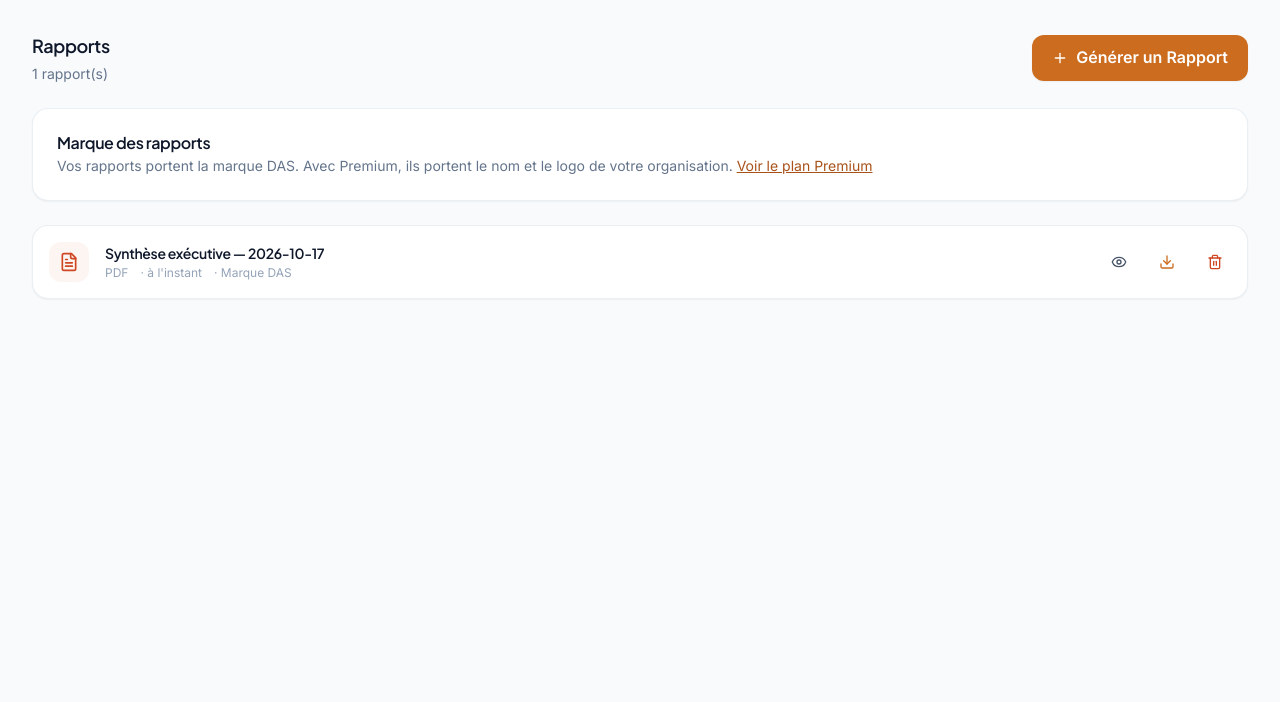
Test: ReportsTab › erreur serveur : message clair, rien n'est ajouté à la liste
Expected: the heading "Synthèse exécutive — 2026-10-17" is shown, [105,244,324,262]
Click the button "Générer un Rapport": (1140, 58) [1032,35,1248,81]
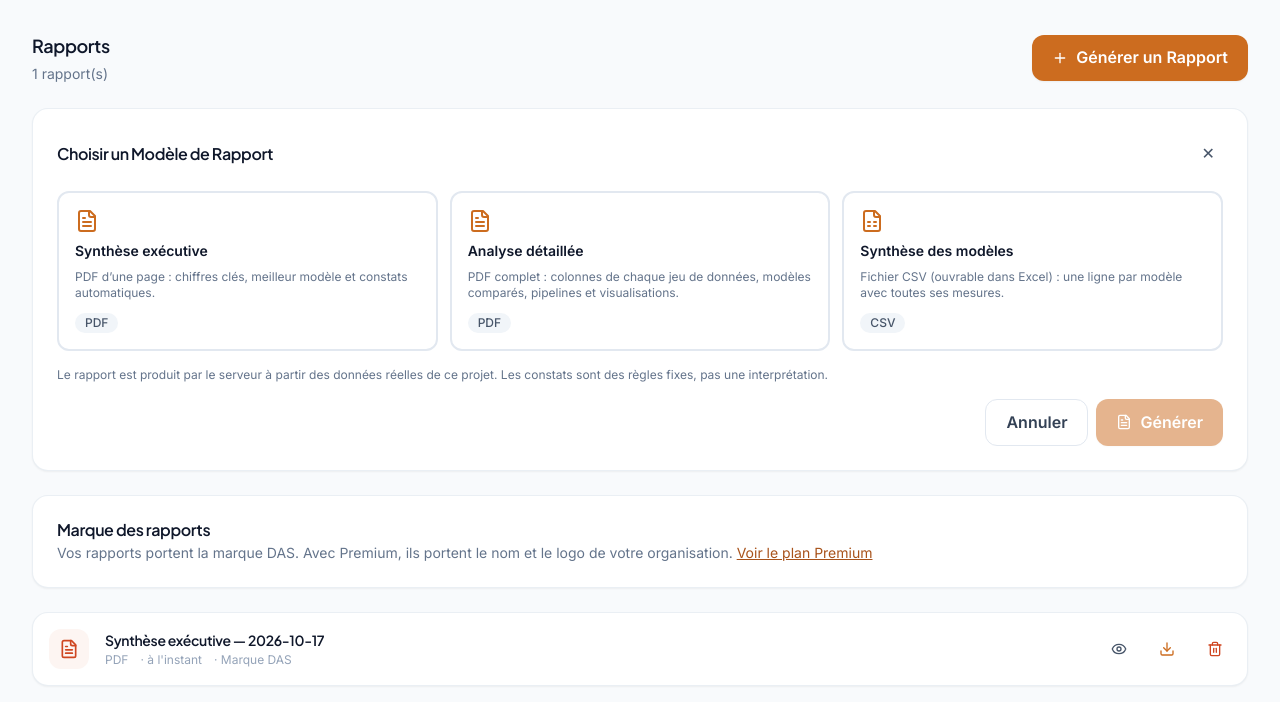
Click the radio button that starts with "Synthèse exécutive": (247, 271) [57,191,438,351]
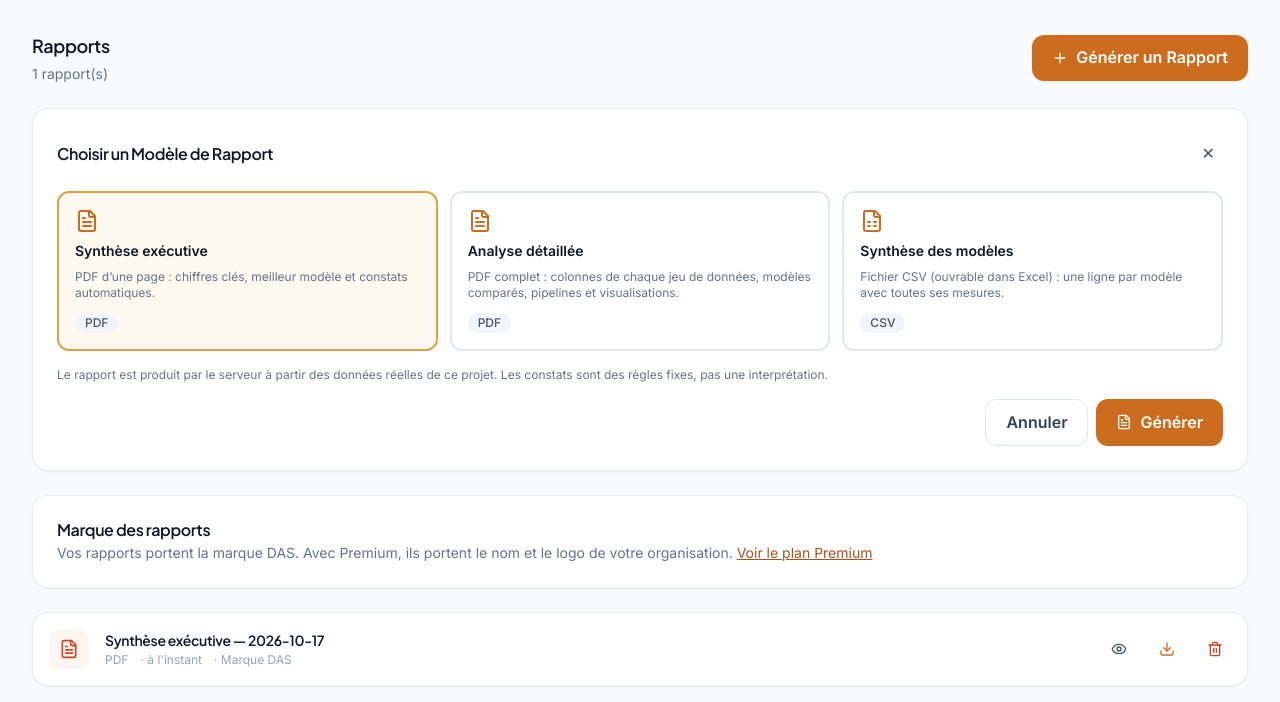
Click the button "Générer": (1160, 422) [1096,399,1223,446]
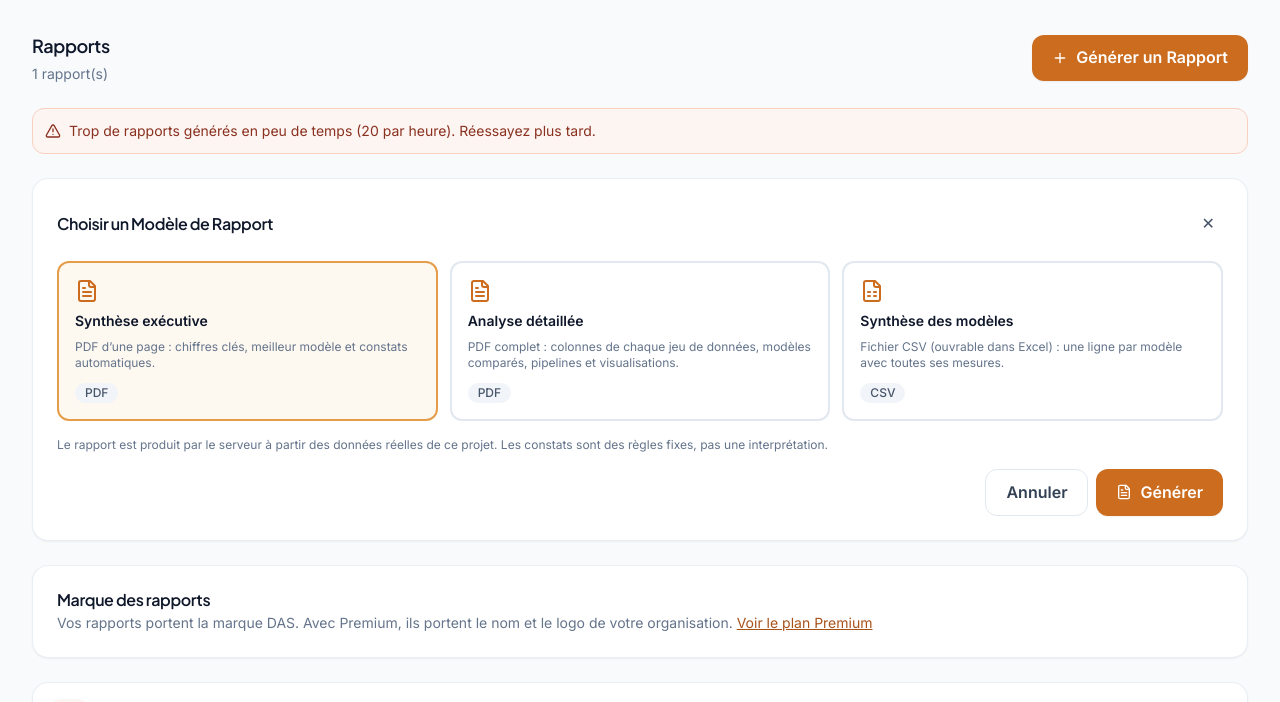
Now the message shows "20 par heure", box [69,122,596,139]
